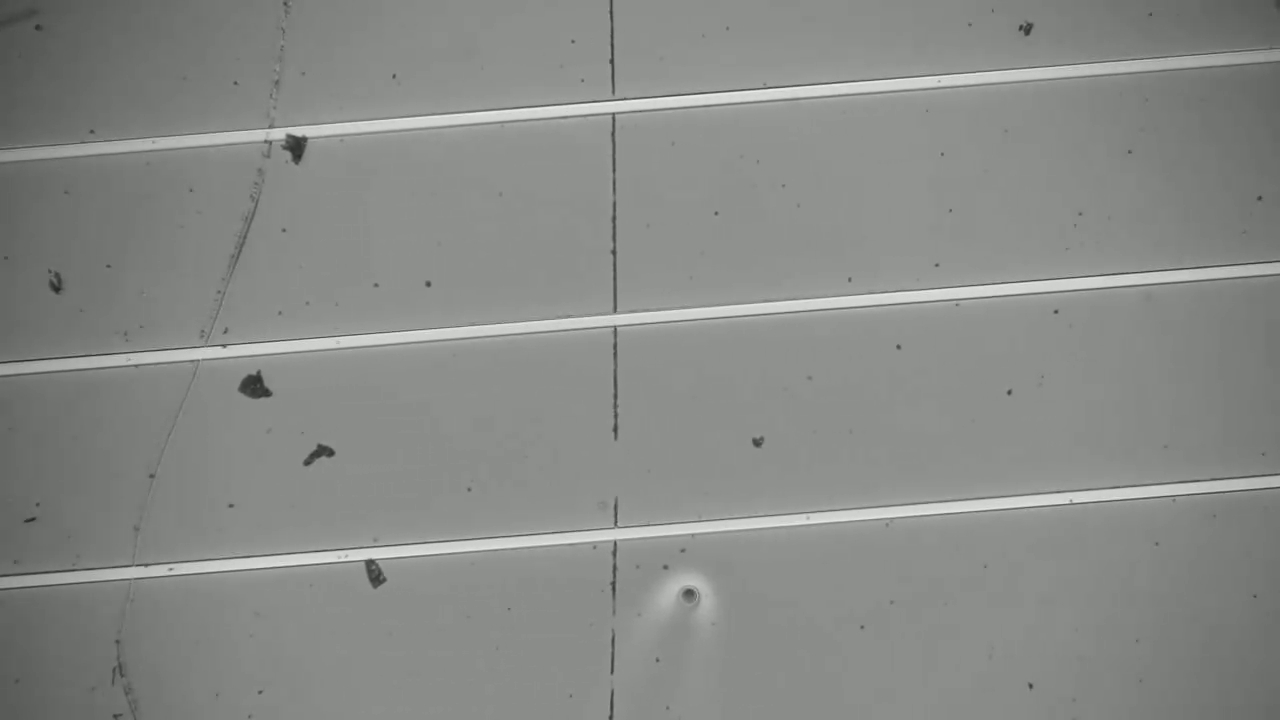scratch: (87, 3, 307, 698), (579, 1, 647, 709)
